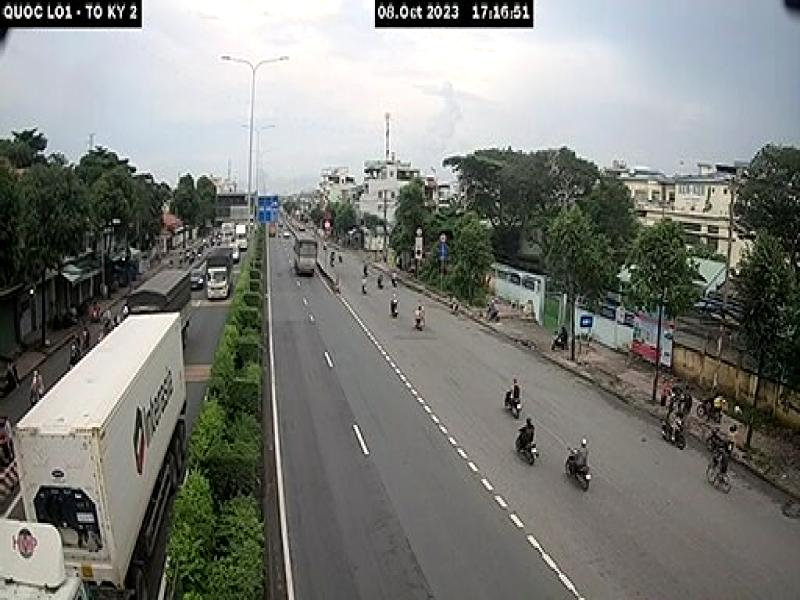truck: (0, 307, 186, 600)
